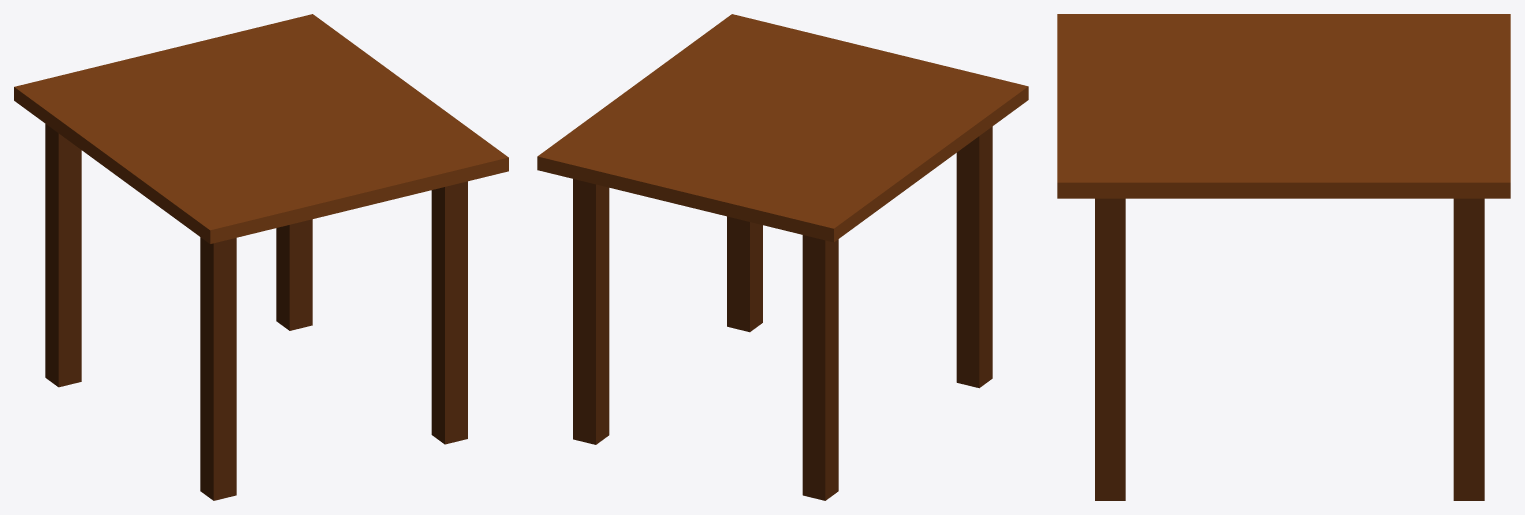
The model's file is Table.fbx.
The picture shows the model from 3 angles, left to right: view 1: azimuth 30°, elevation 25°; view 2: azimuth 150°, elevation 25°; view 3: azimuth 270°, elevation 25°; orthographic projection. The views are drawn at different scales.
Visible parts, largest first — view 1: Cube.004, Cube, Cube.001, Cube.003, Cube.002; view 2: Cube.004, Cube.003, Cube.002, Cube, Cube.001; view 3: Cube.004, Cube.002, Cube.001.
Boxes of the visible parts, box(x1,y1,x2,y2) form: Cube.004: box(14, 14, 508, 243); Cube: box(200, 237, 236, 500); Cube.001: box(431, 181, 467, 444); Cube.003: box(45, 124, 81, 387); Cube.002: box(276, 219, 312, 330); Cube.004: box(537, 14, 1028, 242); Cube.003: box(802, 235, 838, 500); Cube.002: box(573, 179, 609, 444); Cube: box(956, 126, 992, 388); Cube.001: box(727, 216, 762, 332); Cube.004: box(1057, 14, 1510, 198); Cube.002: box(1453, 198, 1484, 500); Cube.001: box(1095, 198, 1125, 500).
Bounding box in the file's own units: 260 × 239 × 295.
